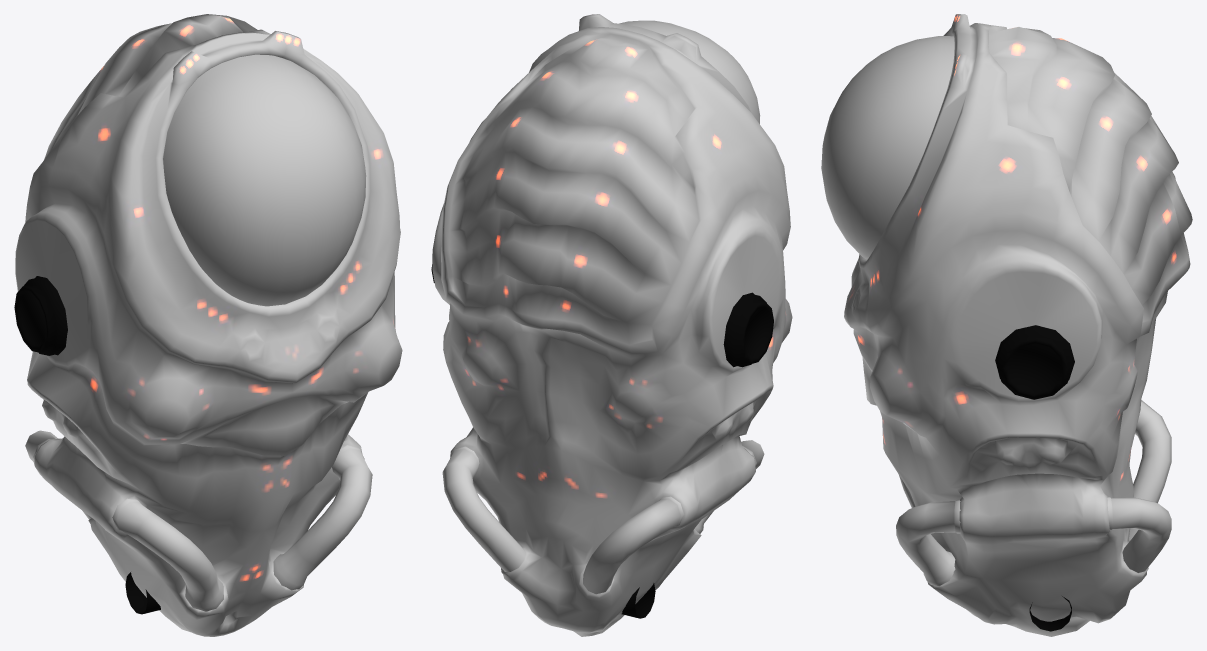
File: torsoDSE.gltf
3 renders of one model, left to right at view 1: azimuth 30°, elevation 25°; view 2: azimuth 150°, elevation 25°; view 3: azimuth 270°, elevation 25°, orthographic. The views are drawn at different scales.
Visible parts, largest first — view 1: MP_DS_Torso, MP_DS_Frame_Torso; view 2: MP_DS_Torso, MP_DS_Frame_Torso; view 3: MP_DS_Torso, MP_DS_Frame_Torso.
Part boxes in pixels (left/top/right/bottom): MP_DS_Torso: left=15, top=14, right=402, bottom=636; MP_DS_Frame_Torso: left=14, top=276, right=160, bottom=614; MP_DS_Torso: left=432, top=14, right=792, bottom=636; MP_DS_Frame_Torso: left=431, top=264, right=773, bottom=618; MP_DS_Torso: left=821, top=14, right=1192, bottom=636; MP_DS_Frame_Torso: left=995, top=325, right=1074, bottom=631.
Size of the model in its own units: 0.649 by 1.15 by 0.6463.
